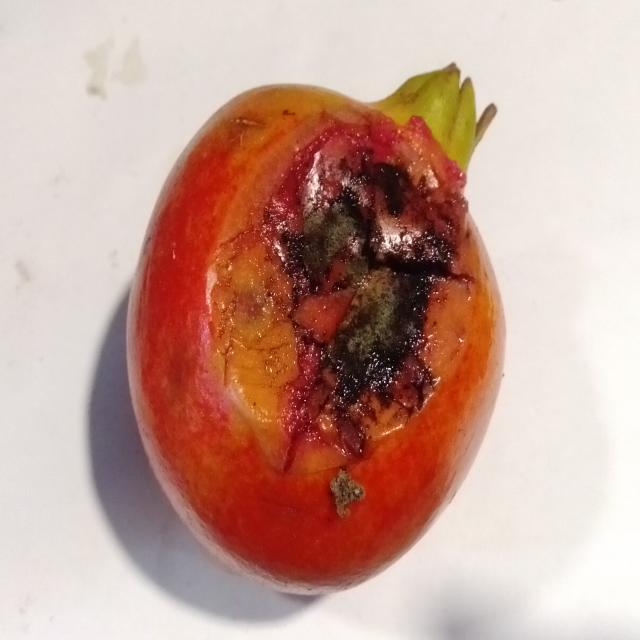Rotten: (128, 63, 508, 595)
